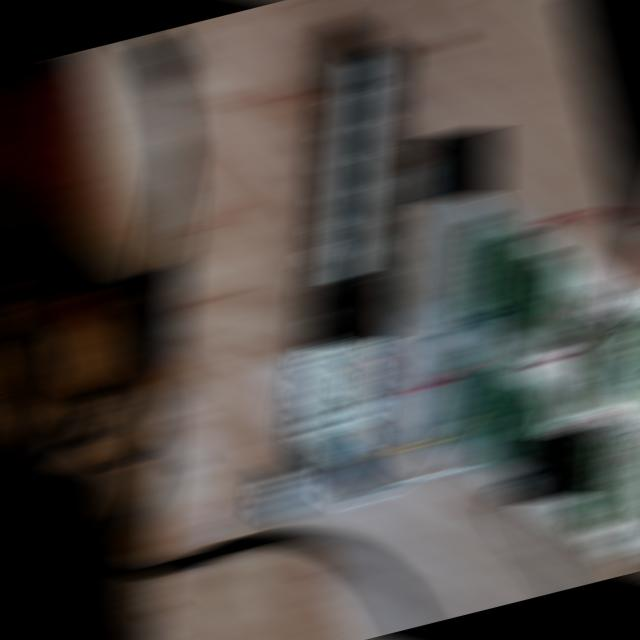Phillips_Block: (289, 16, 412, 489)
Terminal_1: (580, 430, 627, 525), (589, 312, 633, 407)
Terminal_2: (483, 370, 531, 462), (515, 390, 563, 482), (451, 350, 500, 440), (494, 237, 541, 328), (524, 257, 571, 347)
